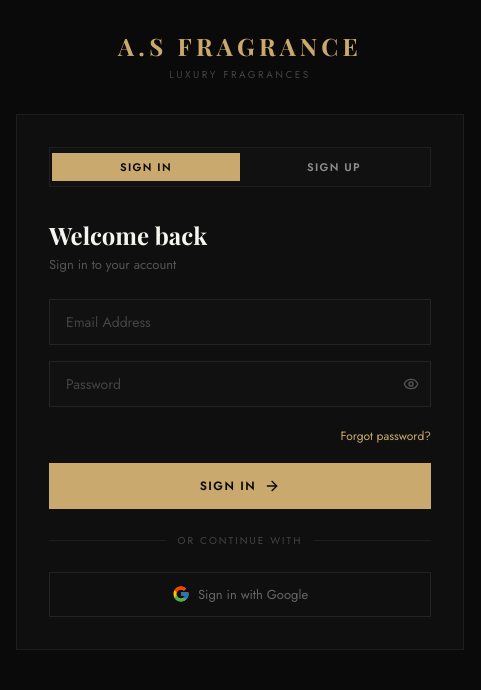
Test: Sign-in page – form validation › shows "Invalid email" for bad email format
Type "notanemail" into the field with placeholder "Email Address".
click(240, 322); type("notanemail")  # box [49,298,431,344]
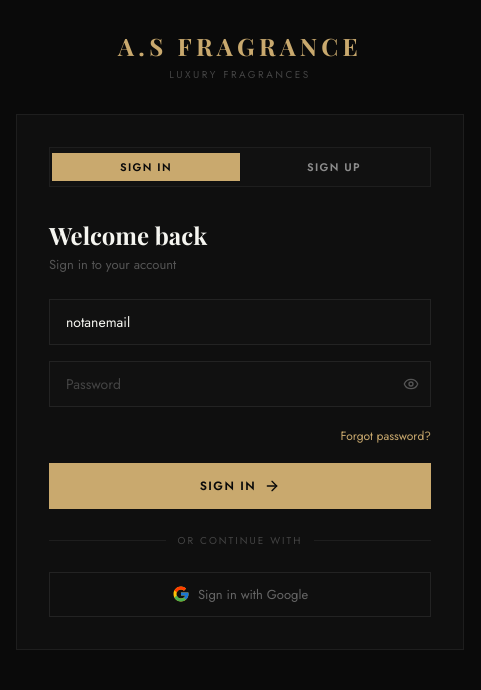
Submit the form with placeholder "Email Address", box [49,298,431,508]
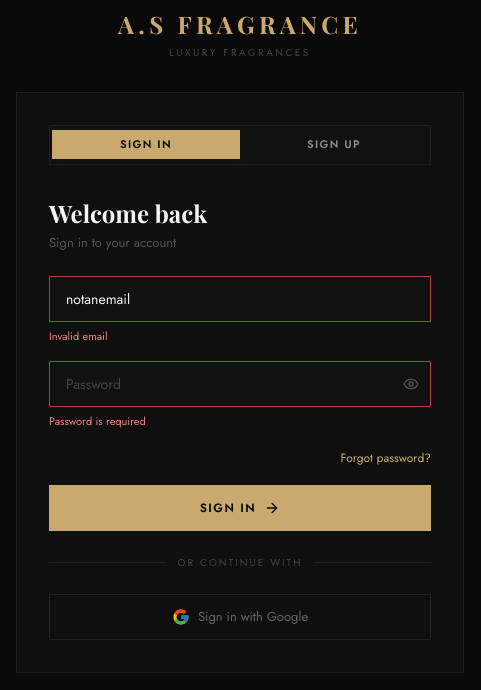
Check: the text "Invalid email" is shown, box [49,328,107,344]
